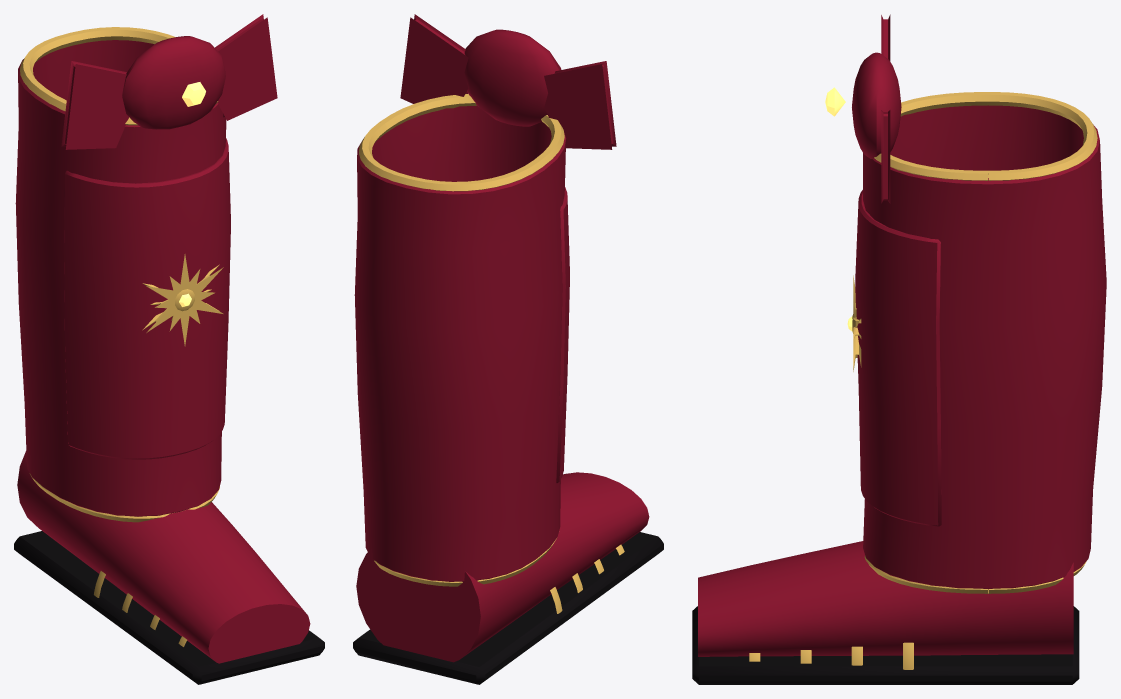
File: boss_crimson_glory_boots_1.glb
The picture shows the model from 3 angles, left to right: view 1: azimuth 30°, elevation 25°; view 2: azimuth 150°, elevation 25°; view 3: azimuth 270°, elevation 25°; orthographic projection. The views are drawn at different scales.
Parts seen in each view (by area): view 1: boss_crimson_glory_boots_1, AT_foot_L; view 2: boss_crimson_glory_boots_1, AT_foot_L; view 3: boss_crimson_glory_boots_1, AT_foot_L.
Boxes of the visible parts, x1,y1,x2,y2 form: boss_crimson_glory_boots_1: (15,14,277,522); AT_foot_L: (14,451,324,684); boss_crimson_glory_boots_1: (354,14,616,586); AT_foot_L: (353,472,663,684); boss_crimson_glory_boots_1: (825,14,1106,593); AT_foot_L: (692,541,1079,684).
Bounding box in the file's own units: 0.2244 × 0.5768 × 0.3641.
